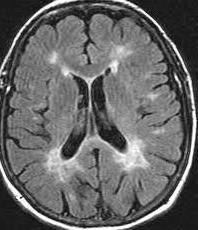Normal_Brain: (1, 1, 193, 230)
